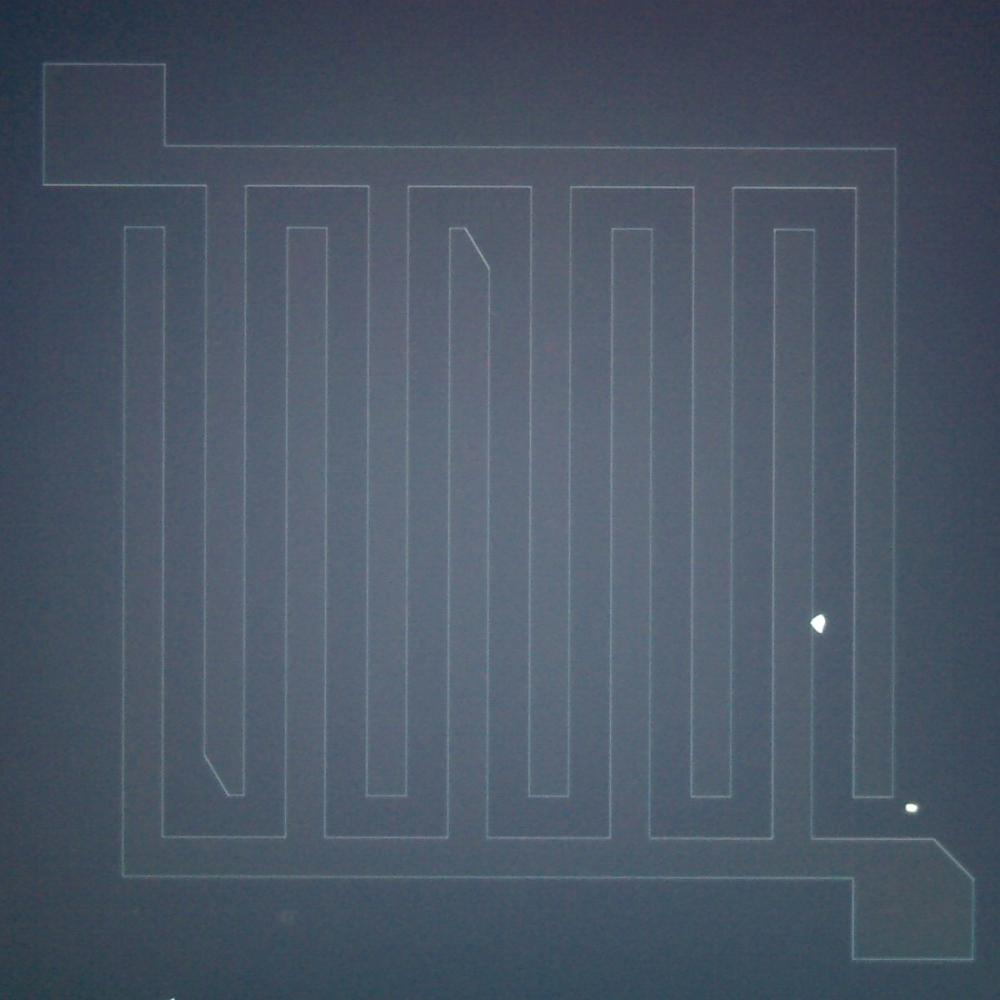dot: (809, 614, 829, 634), (906, 802, 917, 814)
